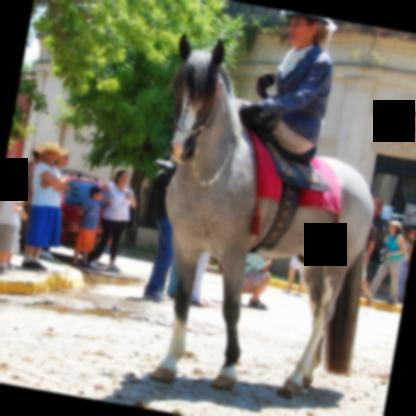handbag: (377, 232, 398, 264), (126, 186, 136, 229), (404, 240, 411, 269)
